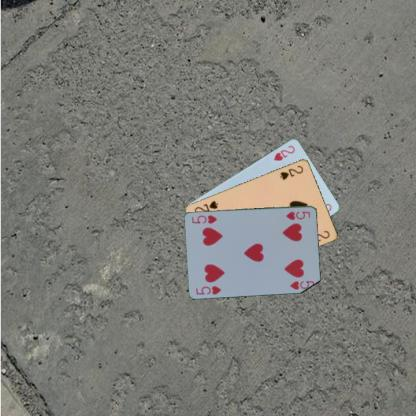2h: (271, 142, 296, 161)
2s: (277, 163, 304, 181)
5h: (194, 283, 223, 296), (284, 209, 311, 221)
